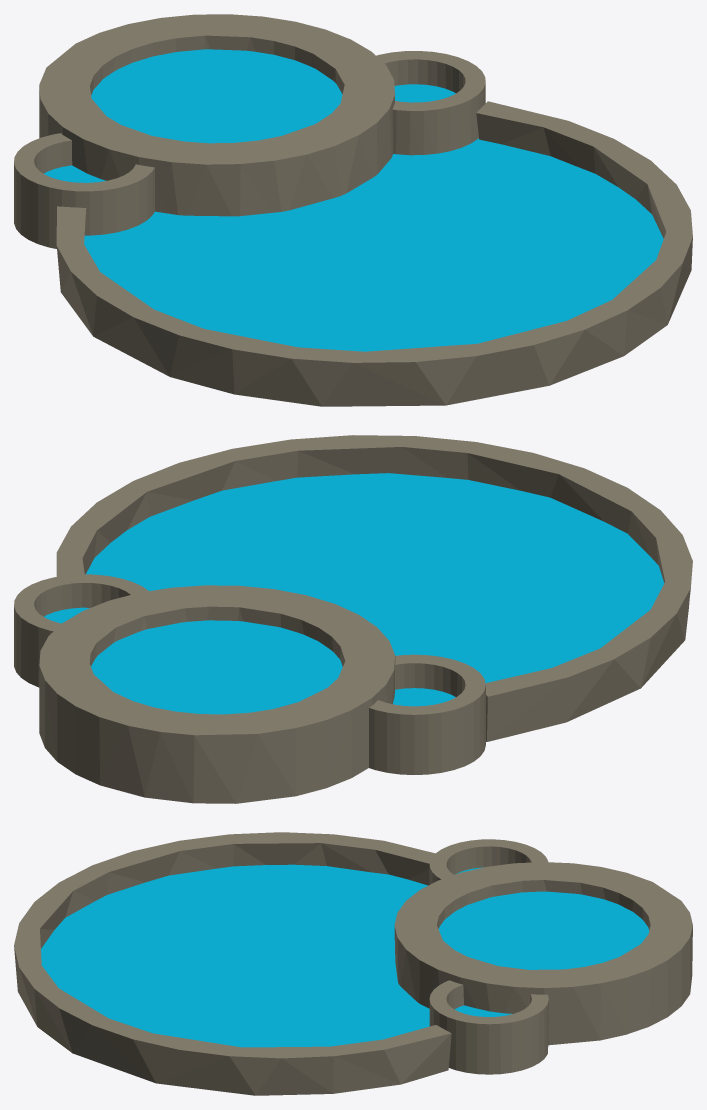
Rendered from pool.fbx.
The picture shows the model from 3 angles, top to bottom: view 1: azimuth 30°, elevation 25°; view 2: azimuth 150°, elevation 25°; view 3: azimuth 270°, elevation 25°; orthographic projection. The views are drawn at different scales.
Parts seen in each view (by area): view 1: Circle.004, Circle.001, Circle, Circle.005, Circle.002, Circle.003, Circle.007, Circle.006; view 2: Circle.004, Circle, Circle.001, Circle.005, Circle.002, Circle.003, Circle.006; view 3: Circle.004, Circle.001, Circle, Circle.005, Circle.003, Circle.002.
Boxes of the visible parts, x1=… form: Circle.004: x1=84, y1=138, x2=663, y2=351; Circle.001: x1=56, y1=101, x2=692, y2=406; Circle: x1=39, y1=14, x2=395, y2=216; Circle.005: x1=91, y1=49, x2=342, y2=143; Circle.002: x1=14, y1=133, x2=154, y2=248; Circle.003: x1=376, y1=51, x2=485, y2=155; Circle.007: x1=394, y1=84, x2=455, y2=102; Circle.006: x1=44, y1=165, x2=106, y2=182; Circle.004: x1=86, y1=473, x2=664, y2=682; Circle: x1=39, y1=585, x2=395, y2=803; Circle.001: x1=56, y1=435, x2=692, y2=741; Circle.005: x1=91, y1=620, x2=342, y2=714; Circle.002: x1=369, y1=654, x2=485, y2=774; Circle.003: x1=14, y1=574, x2=148, y2=687; Circle.006: x1=393, y1=688, x2=455, y2=706; Circle.004: x1=41, y1=864, x2=429, y2=1047; Circle.001: x1=14, y1=832, x2=451, y2=1095; Circle: x1=394, y1=862, x2=692, y2=1045; Circle.005: x1=438, y1=891, x2=649, y2=969; Circle.003: x1=429, y1=980, x2=548, y2=1074; Circle.002: x1=429, y1=839, x2=548, y2=884.
Bounding box in the file's own units: 2090 × 259 × 2651.
